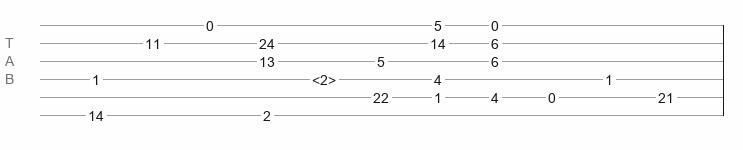0: (206, 18, 214, 28), (491, 18, 499, 28), (548, 90, 556, 100)
1: (92, 72, 100, 82), (434, 90, 442, 100), (605, 72, 613, 82)
11: (145, 36, 161, 46)
13: (259, 54, 275, 64)
14: (88, 108, 104, 118), (430, 36, 446, 46)
2: (263, 108, 271, 118)
21: (658, 90, 674, 100)
22: (373, 90, 389, 100)
24: (259, 36, 275, 46)
4: (434, 72, 442, 82), (491, 90, 499, 100)
5: (377, 54, 385, 64), (434, 18, 442, 28)
6: (491, 54, 499, 64), (491, 36, 499, 46)
harmonic: (312, 72, 336, 82)
